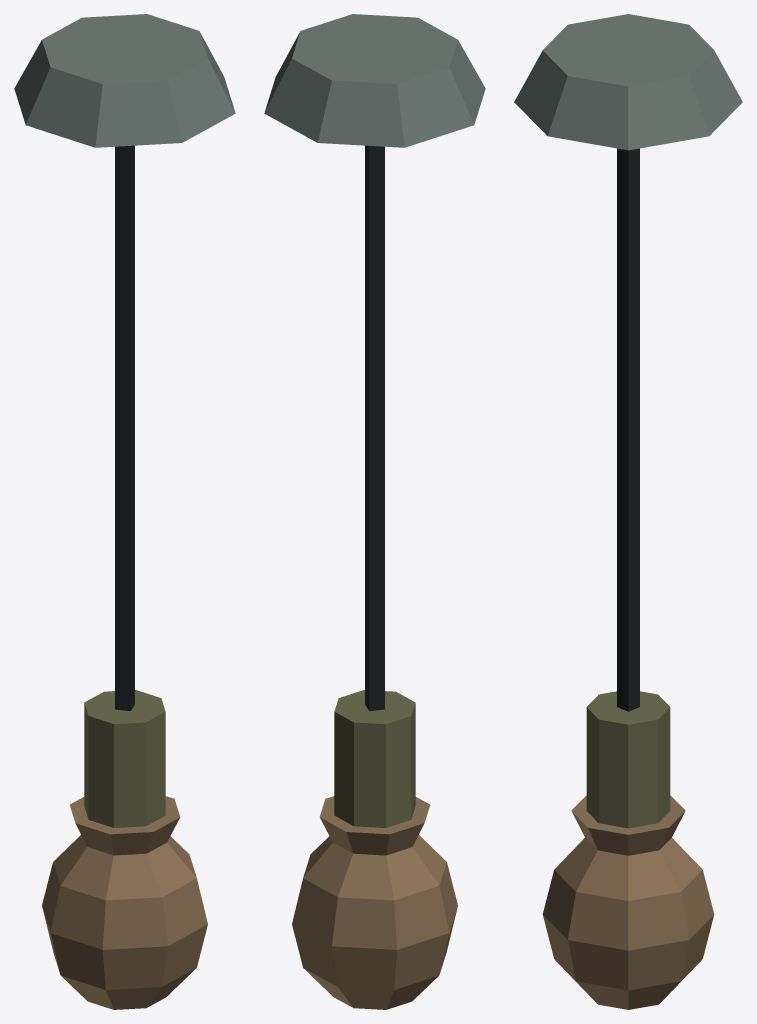
Rendered from bec.glb.
3 renders of one model, left to right at view 1: azimuth 30°, elevation 25°; view 2: azimuth 150°, elevation 25°; view 3: azimuth 270°, elevation 25°, orthographic.
Visible parts, largest first — view 1: Fir, Sticla; view 2: Fir, Sticla; view 3: Fir, Sticla.
Part boxes in pixels (x1,y1,x2,y2): Fir: [14, 14, 235, 827]; Sticla: [42, 796, 207, 1009]; Fir: [264, 14, 485, 827]; Sticla: [292, 796, 457, 1009]; Fir: [514, 14, 742, 828]; Sticla: [542, 795, 714, 1009].
Size of the model in its own units: 0.12 by 0.5518 by 0.12.
